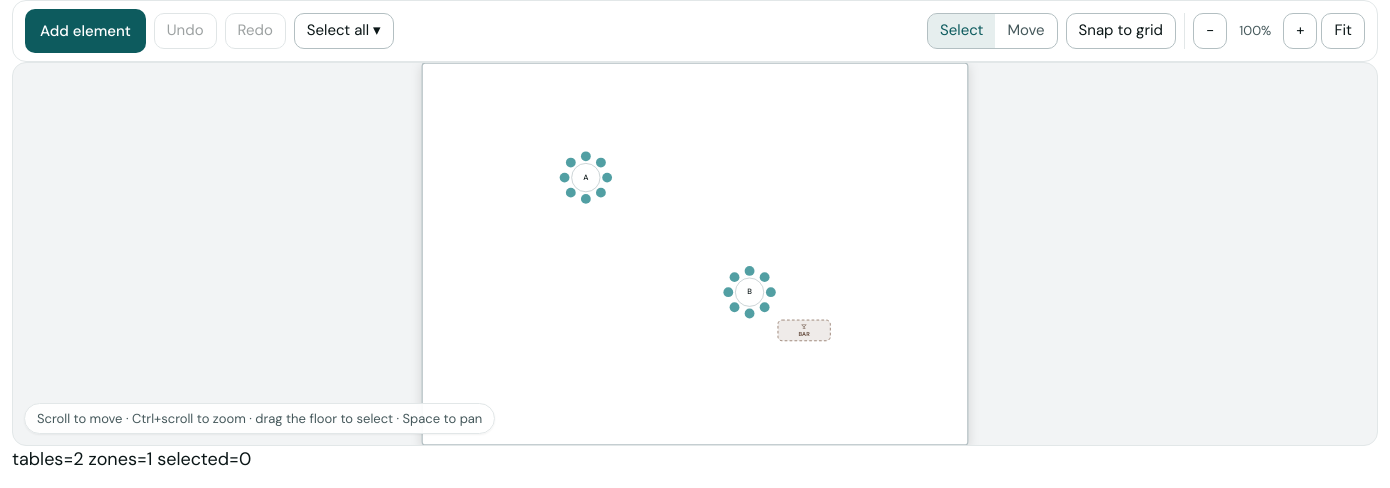
Test: Select all, narrowed › narrowing by type takes only that type
Click the button "Select all ▾" at x=344, y=31, box [294, 13, 394, 49]
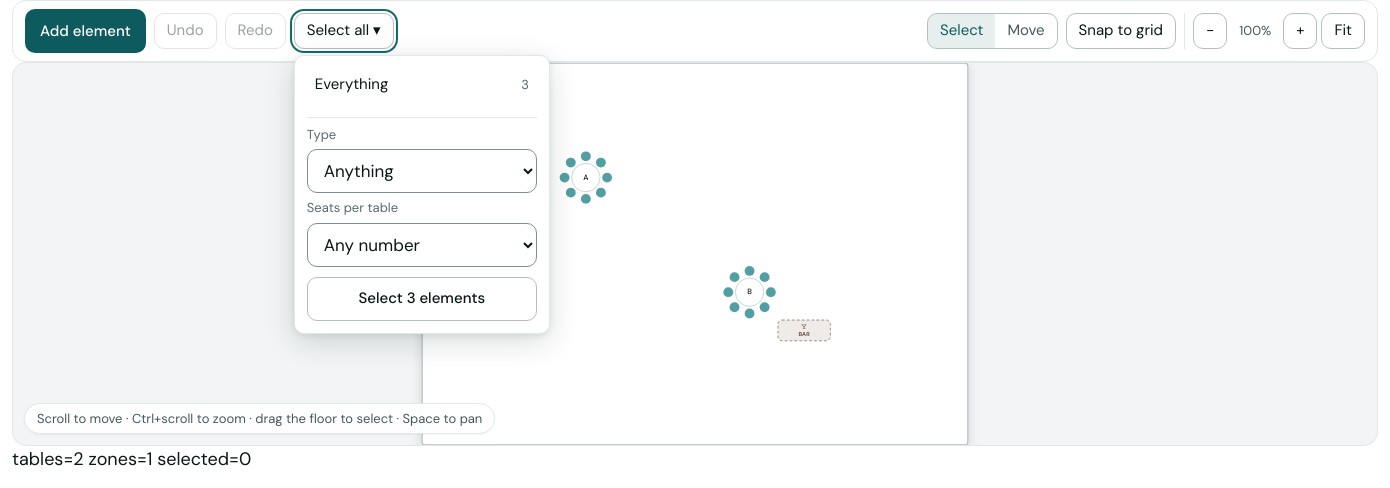
Select "All tables" in the dropdown labelled "Type" at x=422, y=172, box [307, 150, 537, 194]
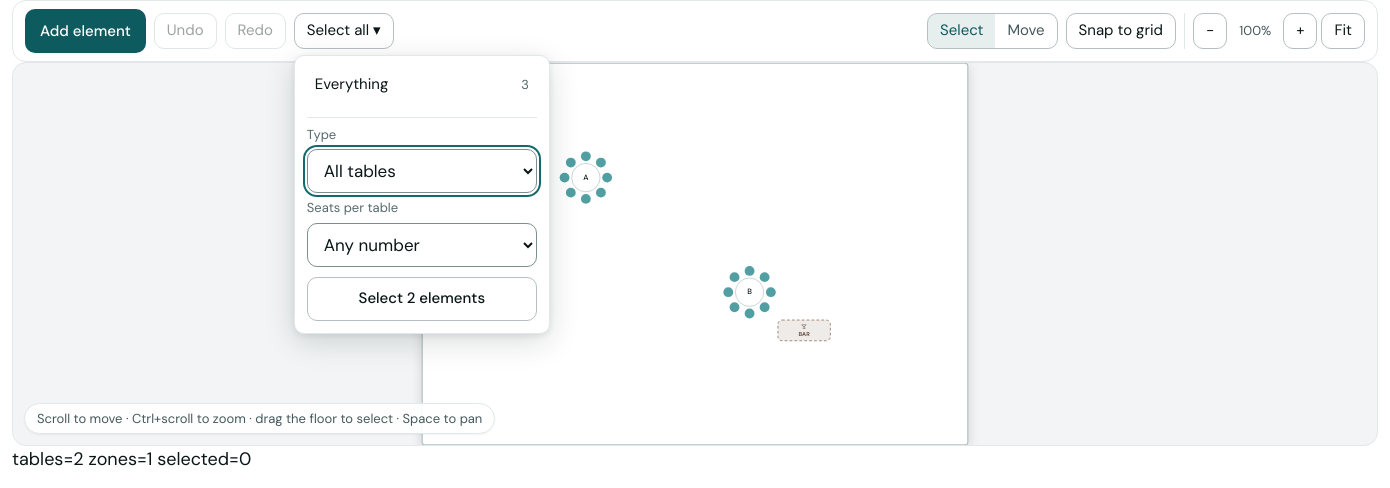
Click the button "Select 2 elements" at x=422, y=299, box [307, 277, 537, 321]
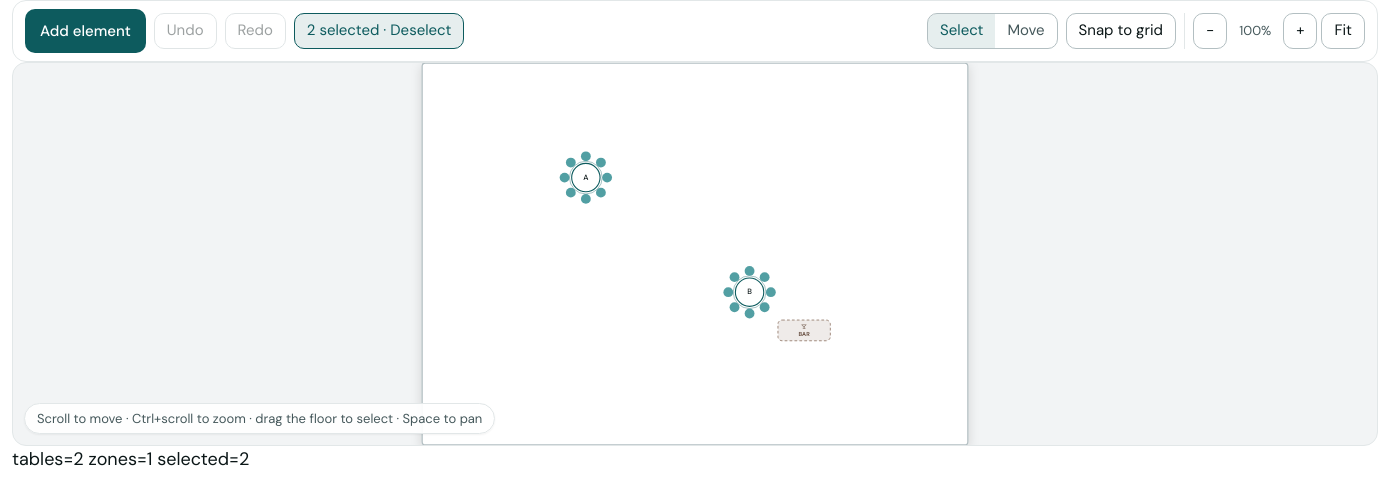
Expected: the text with test id "state" shows "selected=2", [12, 447, 249, 471]
